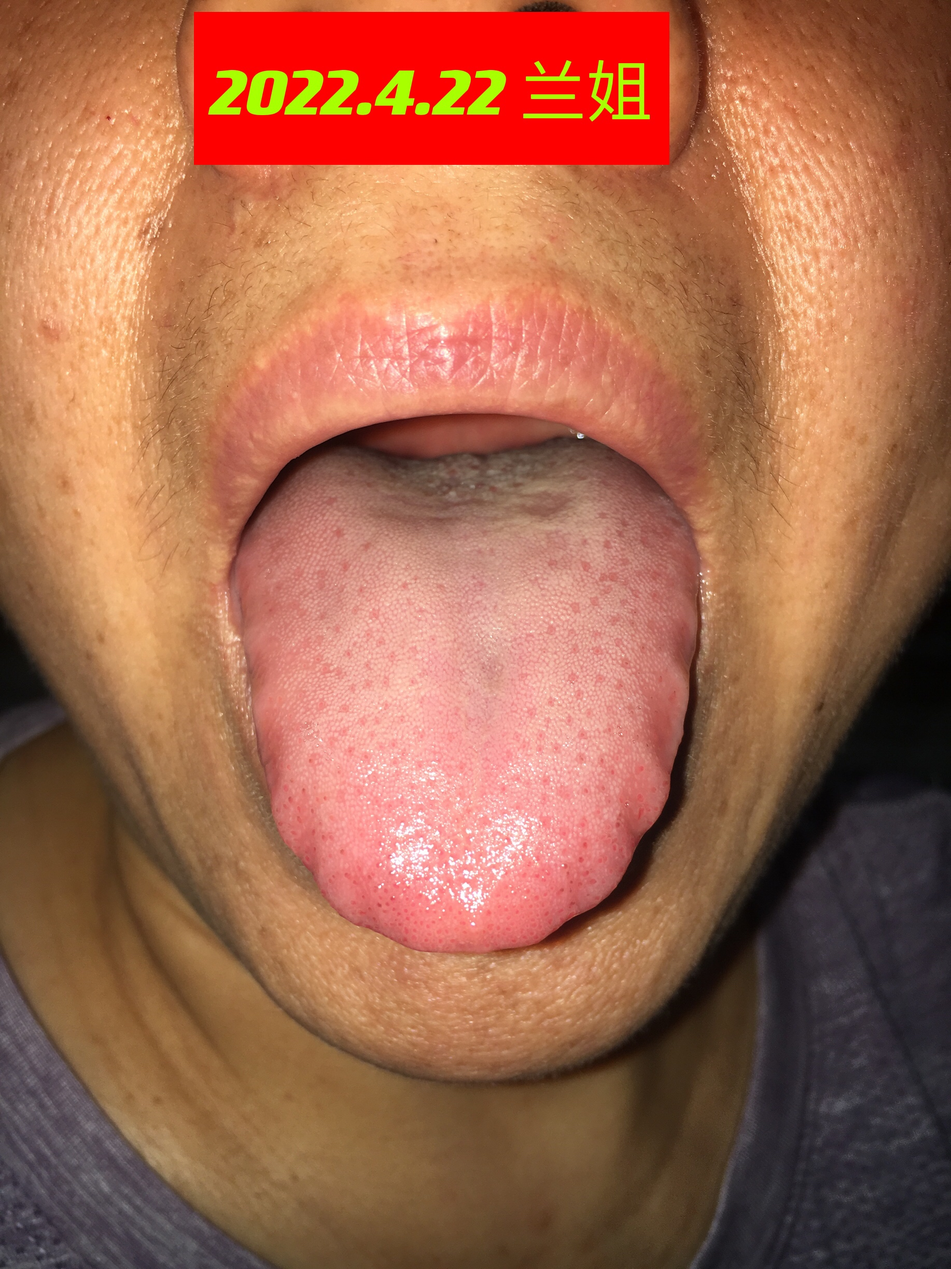baitaishe: (235, 433, 699, 953)
chihenshe: (641, 660, 695, 785)
hongdianshe: (580, 837, 589, 852), (574, 854, 585, 864), (337, 845, 345, 857), (285, 794, 292, 806), (375, 900, 383, 908)
